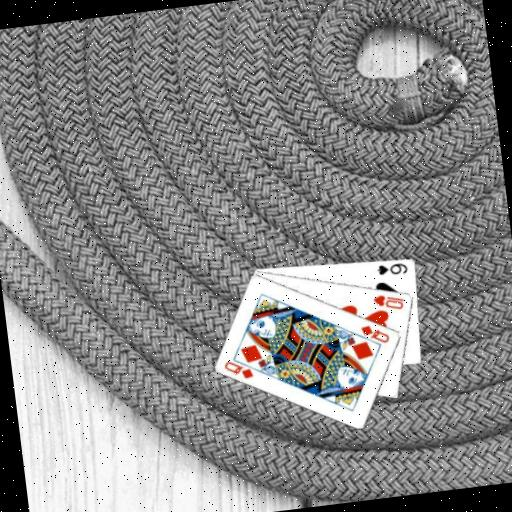10H: (370, 289, 407, 315)
6S: (374, 258, 410, 279)
QD: (221, 355, 256, 383), (358, 319, 392, 347)
